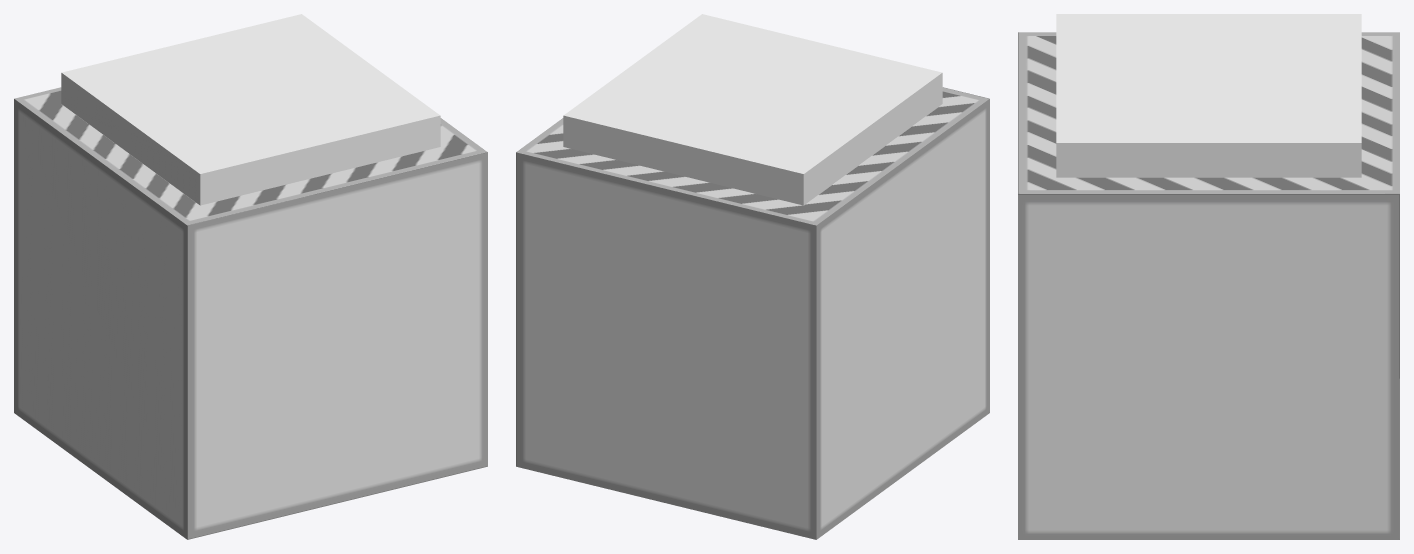
File: SwitchFloor_OFF.obj
3 views of the same model, side by side, from view 1: azimuth 30°, elevation 25°; view 2: azimuth 150°, elevation 25°; view 3: azimuth 270°, elevation 25° (orthographic). The views are drawn at different scales.
Size of the model in its own units: 5 by 5.5 by 5.
1 material, 1 textured.
